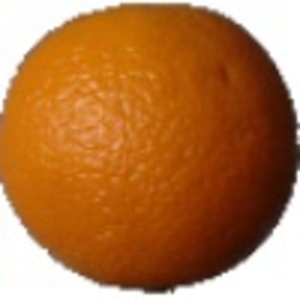laranja: (2, 1, 297, 298)
